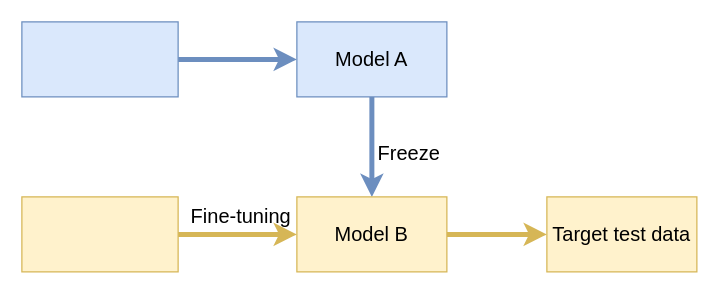
Some shapes in this 719 by 294 pixel diagram are drawn without their labels. The box of each missing label's shape, as (x1, y1, x2, y2) in pixels:
Source train data: (21, 21, 178, 97)
Target train data: (21, 196, 178, 272)
